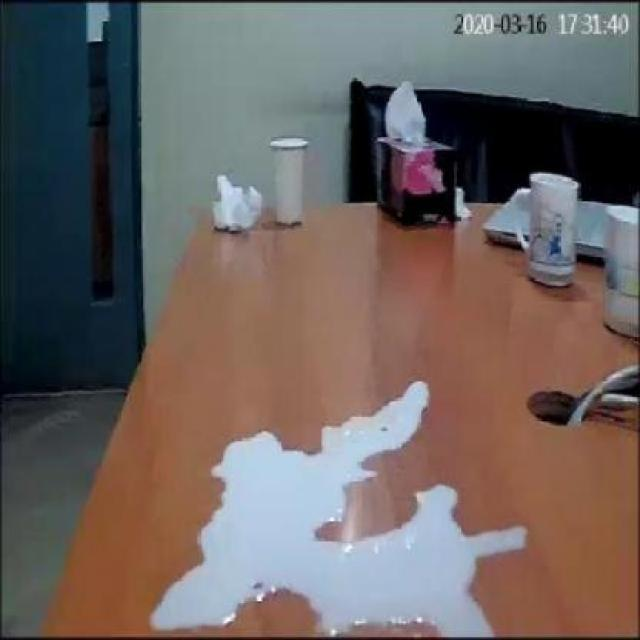spillage: (150, 381, 528, 636)
